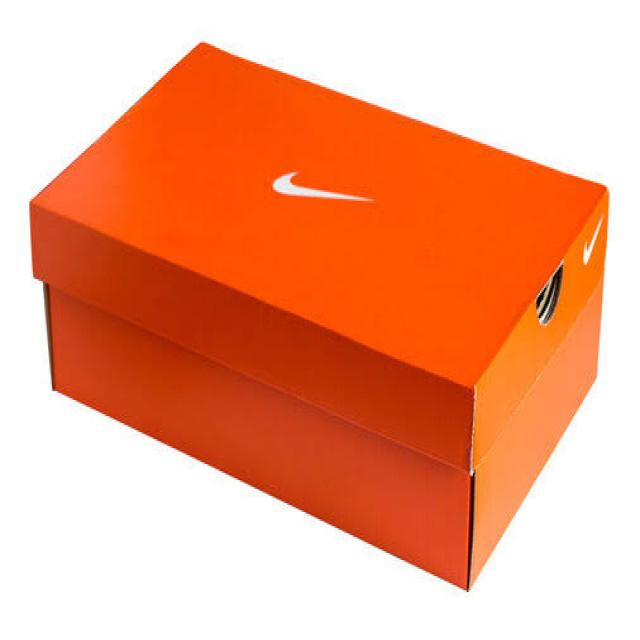paper: (25, 32, 625, 600)
